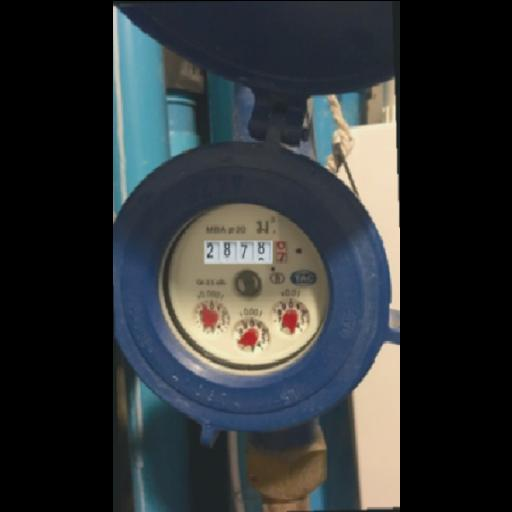2: (206, 243, 218, 262)
6: (276, 242, 287, 263)
7: (240, 242, 253, 260)
8: (223, 242, 236, 260), (257, 242, 270, 260)
border_water_meter_number: (204, 240, 289, 265)
